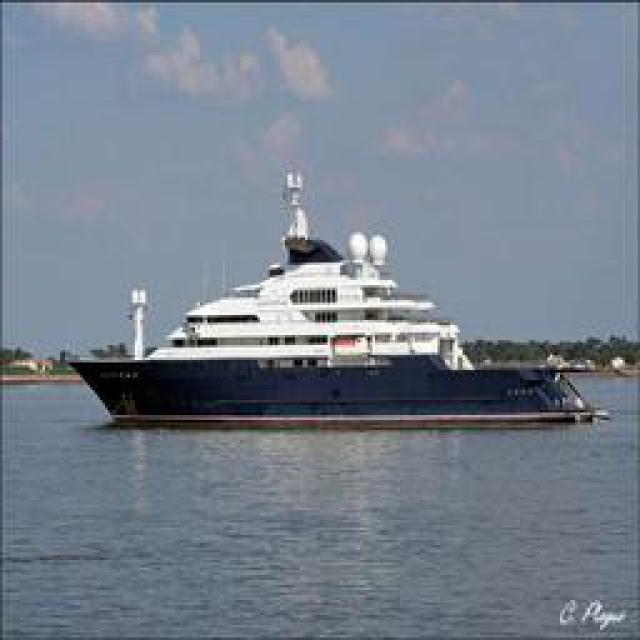Ship: (74, 166, 609, 426)
